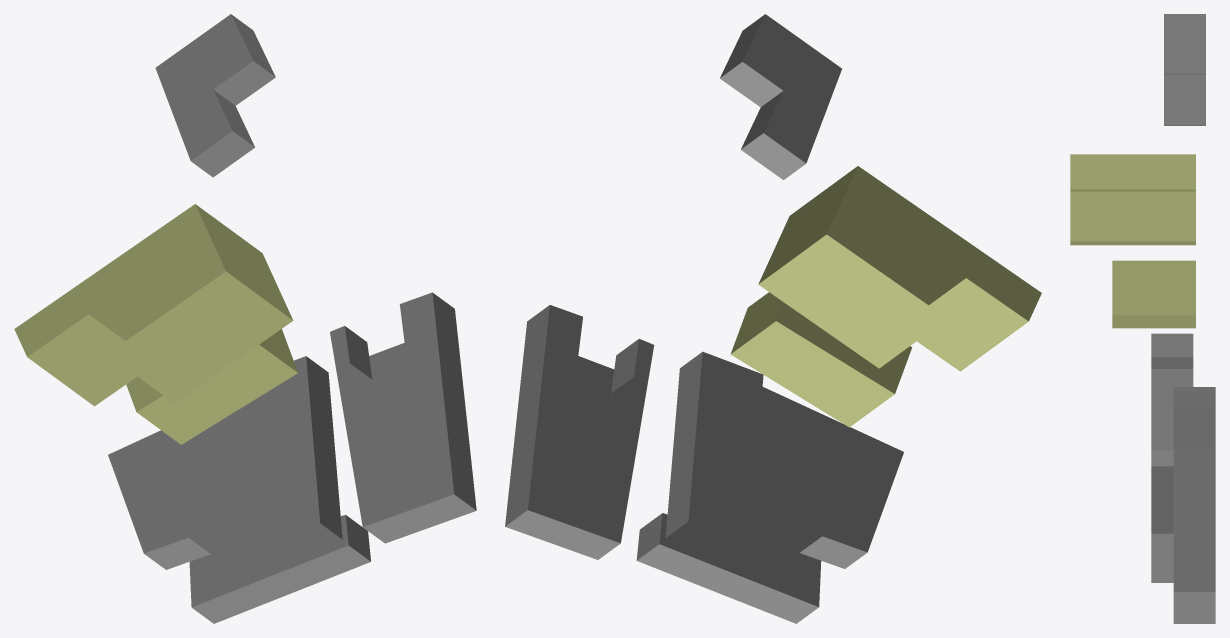
3 renders of one model, left to right at view 1: azimuth 30°, elevation 25°; view 2: azimuth 150°, elevation 25°; view 3: azimuth 270°, elevation 25°, orthographic. The views are drawn at different scales.
Parts seen in each view (by area): view 1: 0_1_0_0_1_0_3_0_3; view 2: 0_1_0_0_1_0_3_0_3; view 3: 0_1_0_0_1_0_3_0_3.
Part boxes in pixels (x1,y1,x2,y2): 0_1_0_0_1_0_3_0_3: (14, 14, 476, 623); 0_1_0_0_1_0_3_0_3: (505, 14, 1041, 623); 0_1_0_0_1_0_3_0_3: (1070, 14, 1215, 623).
Bounding box in the file's own units: 34.75 × 42.56 × 10.4.
